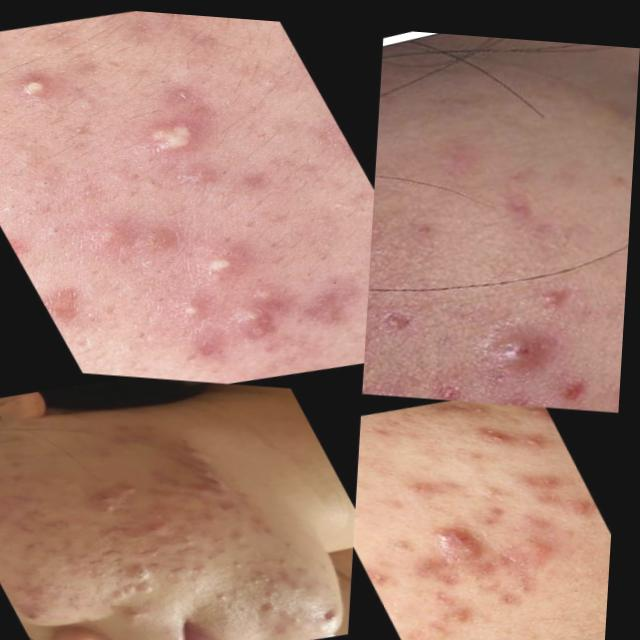8: (132, 498, 191, 536), (166, 551, 222, 585), (127, 601, 171, 632), (123, 552, 170, 580), (102, 518, 139, 546), (320, 597, 357, 621), (258, 506, 285, 532), (141, 536, 174, 556), (219, 494, 243, 509)
9: (1, 66, 89, 108), (534, 270, 587, 309), (175, 291, 230, 318), (205, 244, 252, 268), (522, 396, 556, 415), (470, 392, 505, 410)
blackheads: (424, 504, 497, 561), (134, 108, 220, 155), (486, 173, 555, 229), (228, 299, 297, 347), (90, 476, 158, 513), (187, 457, 241, 500), (105, 575, 148, 603), (134, 574, 173, 597)
dark spot: (520, 518, 557, 542), (34, 171, 69, 191), (18, 205, 51, 221), (61, 250, 90, 266)
pustules: (466, 295, 587, 384)
